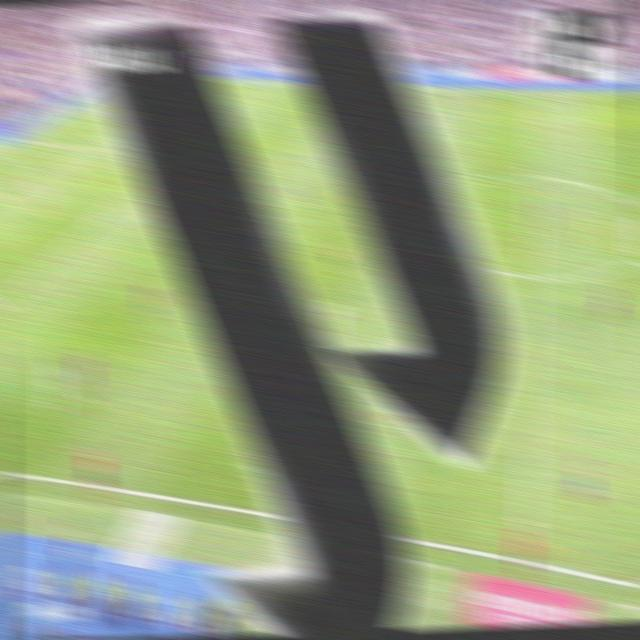bigarea_bottom_inner: (0, 291, 12, 317)
bottom_arc_area_intersection: (88, 214, 108, 231)
halfcircle_bottom: (520, 262, 544, 289)
halfcircle_top: (522, 164, 544, 186)
midline_bottom_intersection: (518, 554, 536, 569)
midline_top_intersection: (526, 85, 546, 101)
smallarea_top_inner: (69, 138, 86, 152)
